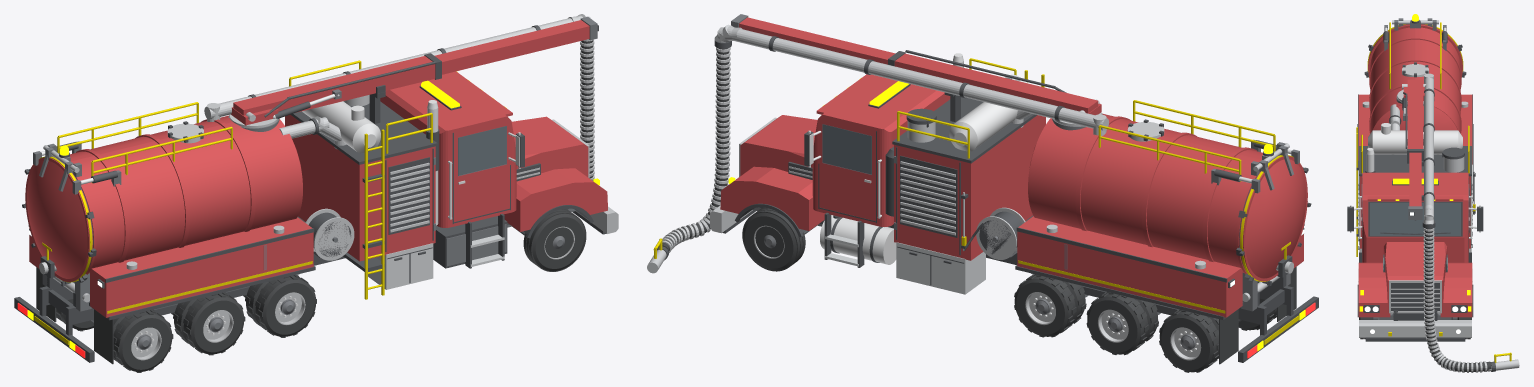
File: Hydrovac_Truck.glb
The picture shows the model from 3 angles, left to right: view 1: azimuth 30°, elevation 25°; view 2: azimuth 150°, elevation 25°; view 3: azimuth 270°, elevation 25°; orthographic projection. The views are drawn at different scales.
Visible parts, largest first — view 1: debris_tank, tyres, water_tank, cab, blower_module, rear_door, boom, fenders, boom_fly, hood, module_roof, tank_handrails (+32 smaller); view 2: debris_tank, tyres, water_tank, cab, blower_module, rear_door, vacuum_tube, fenders, boom, toolbox, hood, module_louvres (+25 smaller); view 3: debris_tank, cab, fenders, windscreen_rubber, windscreen, hood, bumper, suction_hose_rings, silencer, vacuum_tube, module_roof, boom (+28 smaller).
Part boxes in pixels (<box>): debris_tank: <box>70,115,302,273</box>; tyres: <box>56,208,586,372</box>; water_tank: <box>29,217,313,317</box>; cab: <box>380,73,516,227</box>; blower_module: <box>285,114,435,261</box>; rear_door: <box>25,157,92,281</box>; boom: <box>233,56,435,115</box>; fenders: <box>504,168,607,231</box>; boom_fly: <box>434,20,589,74</box>; hood: <box>511,116,588,177</box>; module_roof: <box>290,101,437,164</box>; tank_handrails: <box>57,102,232,183</box>; debris_tank: <box>1028,113,1262,272</box>; tyres: <box>742,207,1276,372</box>; water_tank: <box>1017,216,1303,317</box>; cab: <box>812,75,950,226</box>; blower_module: <box>894,115,1045,260</box>; rear_door: <box>1239,156,1307,281</box>; vacuum_tube: <box>714,24,1108,136</box>; fenders: <box>720,166,825,230</box>; boom: <box>894,53,1098,113</box>; toolbox: <box>896,242,985,294</box>; hood: <box>740,115,817,175</box>; module_louvres: <box>900,155,957,237</box>; debris_tank: <box>1369,27,1461,133</box>; cab: <box>1362,172,1468,262</box>; fenders: <box>1358,262,1472,317</box>; windscreen_rubber: <box>1368,201,1462,236</box>; windscreen: <box>1370,202,1460,235</box>; hood: <box>1383,242,1447,312</box>; bumper: <box>1359,320,1471,337</box>; suction_hose_rings: <box>1423,228,1487,372</box>; silencer: <box>1368,130,1462,154</box>; vacuum_tube: <box>1424,73,1433,224</box>; module_roof: <box>1359,146,1471,176</box>; boom: <box>1407,79,1423,148</box>.
Bounding box in the file's own units: 11.12 × 3.84 × 3.81.
